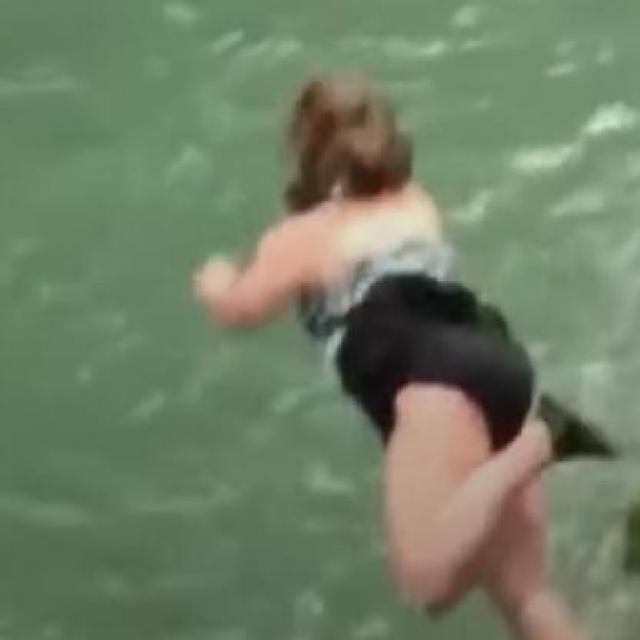fall: (193, 74, 616, 638)
